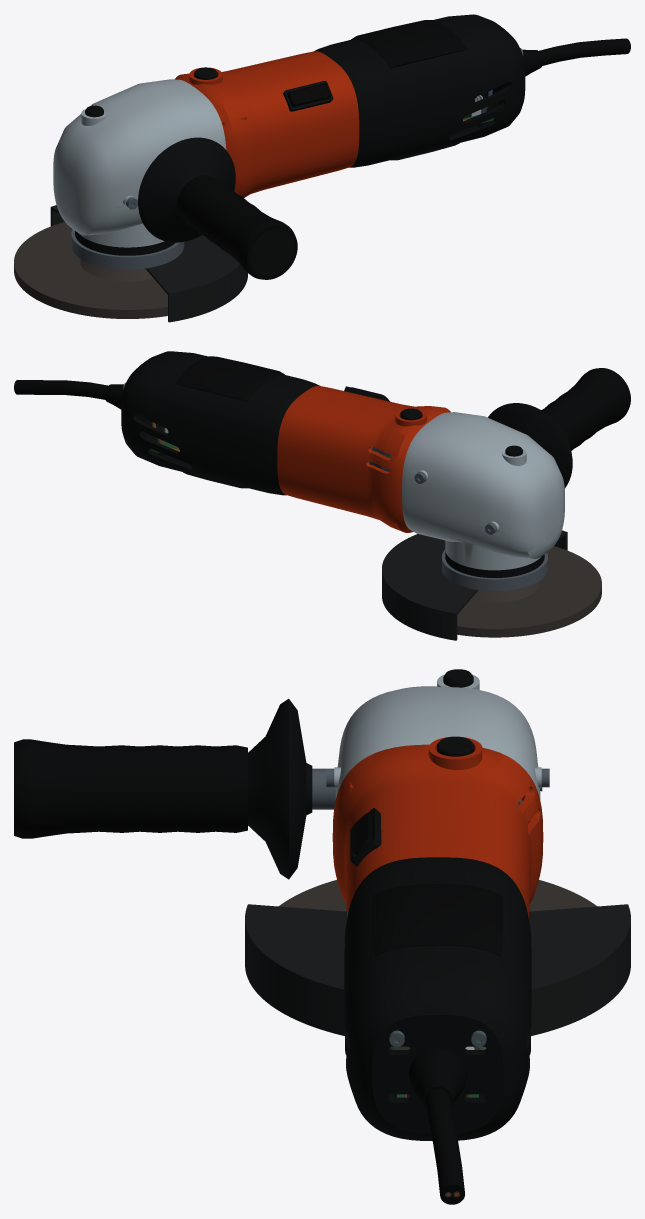
3 renders of one model, top to bottom at view 1: azimuth 30°, elevation 25°; view 2: azimuth 150°, elevation 25°; view 3: azimuth 270°, elevation 25°, orthographic. The views are drawn at different scales.
Parts seen in each view (by area): view 1: part_018_Rear_vented_cover, part_076_Cast_gear_housing, part_040_Front_control_enclosure, part_047_Depressed_abrasive_wheel, part_030_Hollow_auxiliary_handle_core, part_089_Auxiliary_handle_grip_sleeve, part_041_Formed_wheel_guard, part_001_Upper_grip_saddle, part_033_Guard_clamp_band, part_042_Flexible_cord_jacket, part_027_Lower_spindle_bearing_cover, part_015_Slide_switch_paddle (+1 smaller); view 2: part_076_Cast_gear_housing, part_018_Rear_vented_cover, part_040_Front_control_enclosure, part_047_Depressed_abrasive_wheel, part_041_Formed_wheel_guard, part_089_Auxiliary_handle_grip_sleeve, part_001_Upper_grip_saddle, part_030_Hollow_auxiliary_handle_core, part_033_Guard_clamp_band, part_042_Flexible_cord_jacket, part_027_Lower_spindle_bearing_cover; view 3: part_018_Rear_vented_cover, part_040_Front_control_enclosure, part_041_Formed_wheel_guard, part_089_Auxiliary_handle_grip_sleeve, part_076_Cast_gear_housing, part_001_Upper_grip_saddle, part_030_Hollow_auxiliary_handle_core, part_042_Flexible_cord_jacket, part_047_Depressed_abrasive_wheel, part_048_Cord_strain_relief, part_032_Handle_attachment_sleeve.
Part boxes in pixels (x1=…): part_018_Rear_vented_cover: x1=314, y1=14, x2=525, y2=167; part_076_Cast_gear_housing: x1=53, y1=79, x2=226, y2=247; part_040_Front_control_enclosure: x1=175, y1=51, x2=359, y2=197; part_047_Depressed_abrasive_wheel: x1=14, y1=222, x2=167, y2=318; part_030_Hollow_auxiliary_handle_core: x1=138, y1=137, x2=294, y2=276; part_089_Auxiliary_handle_grip_sleeve: x1=177, y1=175, x2=297, y2=279; part_041_Formed_wheel_guard: x1=50, y1=205, x2=247, y2=322; part_001_Upper_grip_saddle: x1=351, y1=20, x2=467, y2=68; part_033_Guard_clamp_band: x1=71, y1=229, x2=184, y2=269; part_042_Flexible_cord_jacket: x1=539, y1=38, x2=630, y2=65; part_027_Lower_spindle_bearing_cover: x1=75, y1=231, x2=175, y2=255; part_015_Slide_switch_paddle: x1=288, y1=84, x2=329, y2=106; part_076_Cast_gear_housing: x1=402, y1=412, x2=564, y2=570; part_018_Rear_vented_cover: x1=121, y1=351, x2=319, y2=495; part_040_Front_control_enclosure: x1=277, y1=385, x2=450, y2=532; part_047_Depressed_abrasive_wheel: x1=457, y1=546, x2=601, y2=637; part_041_Formed_wheel_guard: x1=382, y1=530, x2=567, y2=640; part_089_Auxiliary_handle_grip_sleeve: x1=541, y1=368, x2=630, y2=450; part_001_Upper_grip_saddle: x1=175, y1=356, x2=284, y2=401; part_030_Hollow_auxiliary_handle_core: x1=488, y1=403, x2=572, y2=488; part_033_Guard_clamp_band: x1=442, y1=549, x2=547, y2=591; part_042_Flexible_cord_jacket: x1=14, y1=380, x2=107, y2=399; part_027_Lower_spindle_bearing_cover: x1=445, y1=551, x2=544, y2=577; part_018_Rear_vented_cover: x1=344, y1=857, x2=531, y2=1140; part_040_Front_control_enclosure: x1=332, y1=737, x2=543, y2=918; part_041_Formed_wheel_guard: x1=245, y1=904, x2=630, y2=1035; part_089_Auxiliary_handle_grip_sleeve: x1=14, y1=739, x2=247, y2=838; part_076_Cast_gear_housing: x1=334, y1=674, x2=541, y2=803; part_001_Upper_grip_saddle: x1=372, y1=884, x2=503, y2=956; part_030_Hollow_auxiliary_handle_core: x1=248, y1=698, x2=312, y2=879; part_042_Flexible_cord_jacket: x1=425, y1=1089, x2=464, y2=1204; part_047_Depressed_abrasive_wheel: x1=278, y1=880, x2=597, y2=911; part_048_Cord_strain_relief: x1=408, y1=1048, x2=467, y2=1109; part_032_Handle_attachment_sleeve: x1=312, y1=768, x2=335, y2=809.
Bounding box in the file's own units: 0.2677 × 0.0757 × 0.1477.
